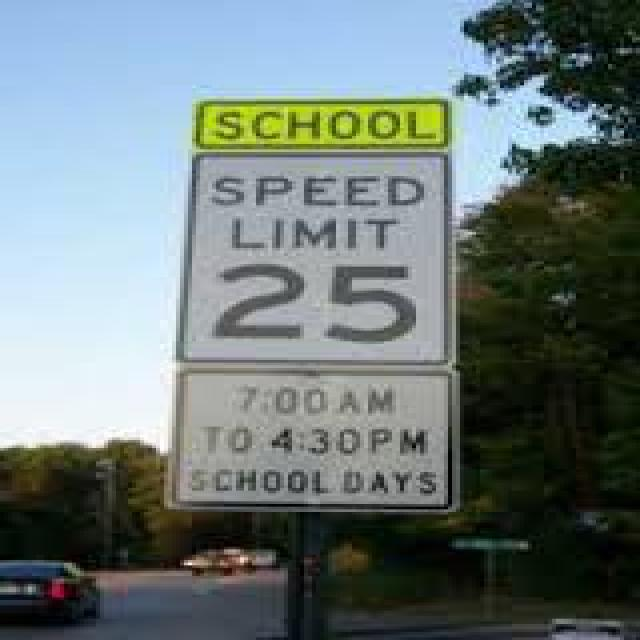regulatory: (170, 152, 452, 366), (160, 370, 472, 524)
